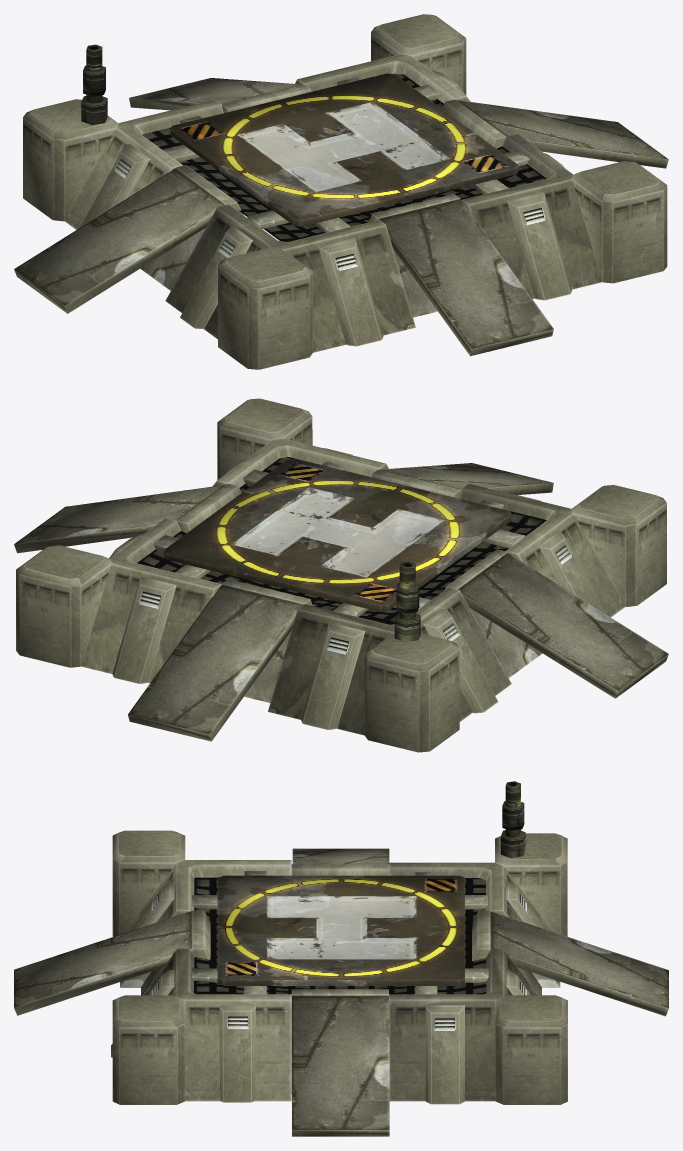
The model's file is helipadstructure.FBX.
3 views of the same model, one above another, from view 1: azimuth 30°, elevation 25°; view 2: azimuth 150°, elevation 25°; view 3: azimuth 270°, elevation 25° (orthographic). The views are drawn at different scales.
Parts seen in each view (by area): view 1: GENERIC_HELIPAD; view 2: GENERIC_HELIPAD; view 3: GENERIC_HELIPAD.
Boxes of the visible parts, x1,y1,x2,y2 form: GENERIC_HELIPAD: (14,14,668,369); GENERIC_HELIPAD: (14,398,668,752); GENERIC_HELIPAD: (14,781,668,1136).
Bounding box in the file's own units: 47.67 × 11.9 × 46.94.
Materials: 2 (2 with a texture image).
